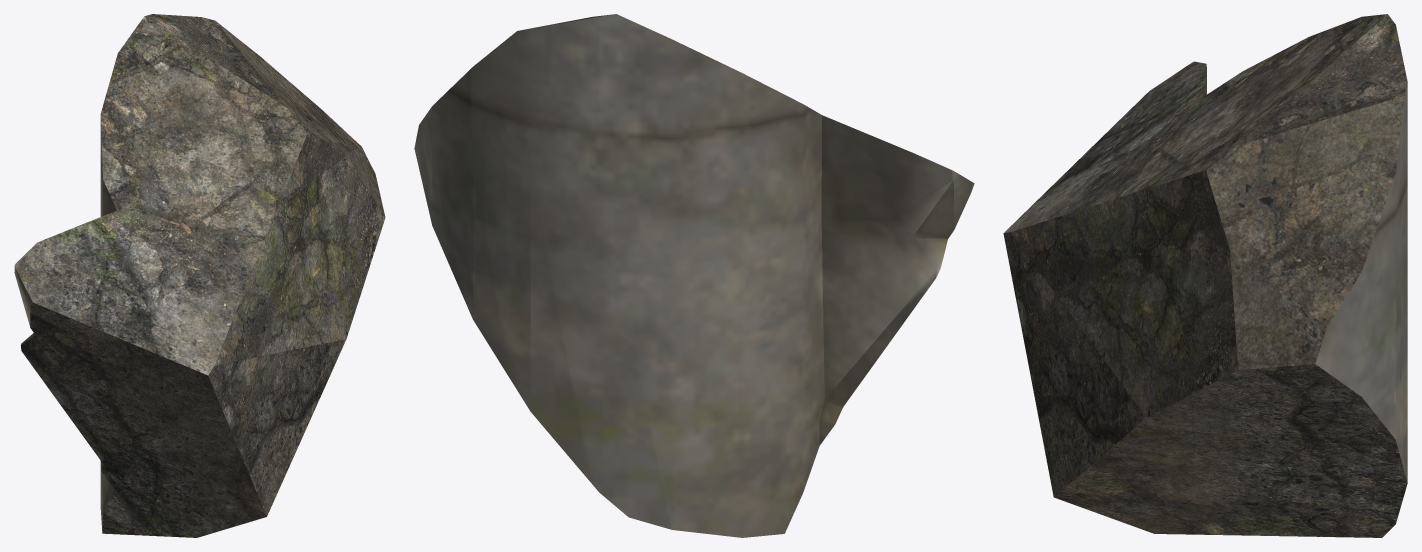
Rendered from ColumnDamage08_21.fbx.
3 views of the same model, side by side, from view 1: azimuth 30°, elevation 25°; view 2: azimuth 150°, elevation 25°; view 3: azimuth 270°, elevation 25° (orthographic). The views are drawn at different scales.
Parts seen in each view (by area): view 1: ColumnDamage08_DM.021; view 2: ColumnDamage08_DM.021; view 3: ColumnDamage08_DM.021.
Boxes of the visible parts, x1,y1,x2,y2 form: ColumnDamage08_DM.021: (14, 14, 385, 537); ColumnDamage08_DM.021: (414, 14, 974, 537); ColumnDamage08_DM.021: (1003, 14, 1407, 537).
Size of the model in its own units: 151 by 160 by 104.
Materials: 2 (2 with a texture image).
